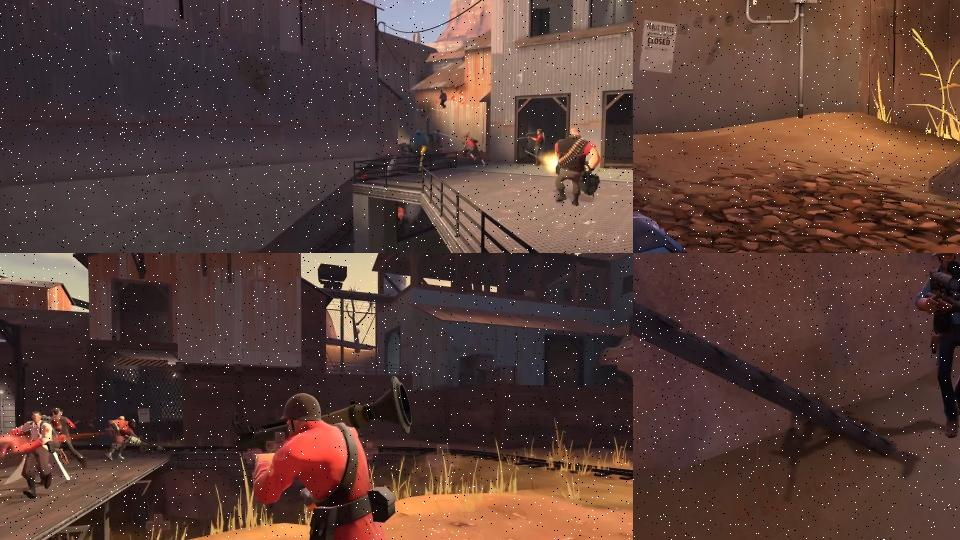Enemy: (226, 374, 414, 540), (908, 253, 960, 443), (10, 411, 73, 499), (633, 208, 753, 253), (552, 128, 601, 207), (106, 414, 166, 462), (49, 407, 88, 468), (516, 128, 546, 166), (461, 136, 487, 168), (621, 413, 633, 457)
